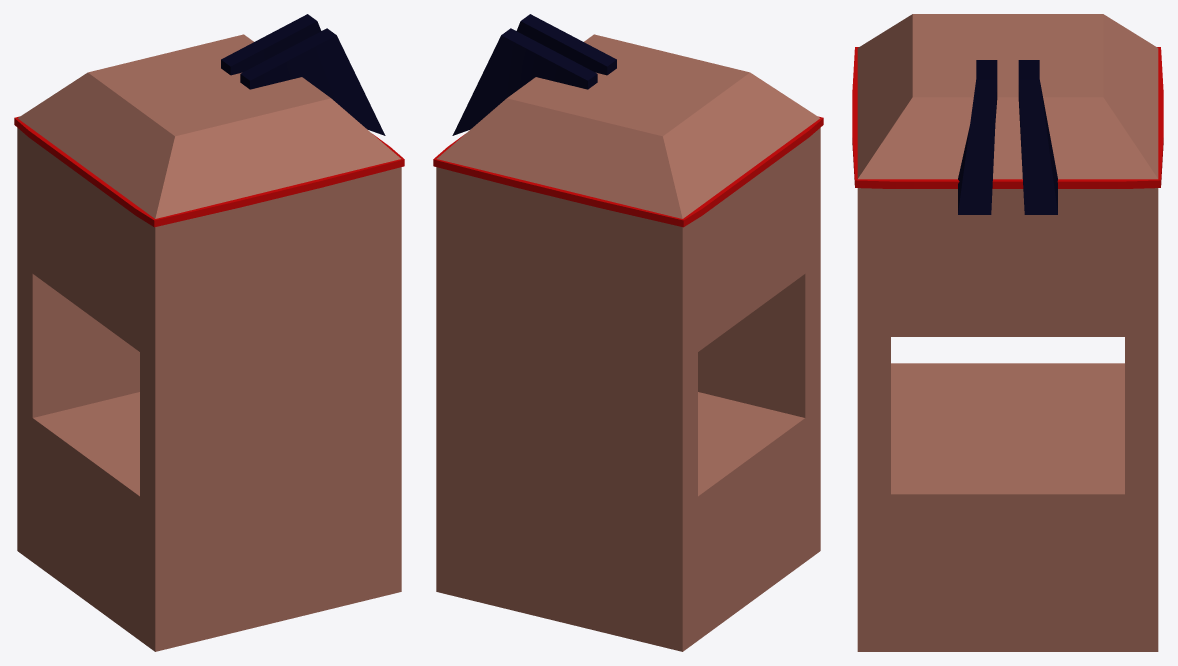
File: Deco Building.fbx
3 renders of one model, left to right at view 1: azimuth 30°, elevation 25°; view 2: azimuth 150°, elevation 25°; view 3: azimuth 270°, elevation 25°, orthographic. The views are drawn at different scales.
Parts seen in each view (by area): view 1: Deco_Building; view 2: Deco_Building; view 3: Deco_Building.
Part boxes in pixels (left/top/right/bottom): Deco_Building: left=14, top=14, right=404, bottom=651; Deco_Building: left=433, top=14, right=823, bottom=651; Deco_Building: left=852, top=14, right=1163, bottom=651.
Bounding box in the file's own units: 27.57 × 48.79 × 24.27.
